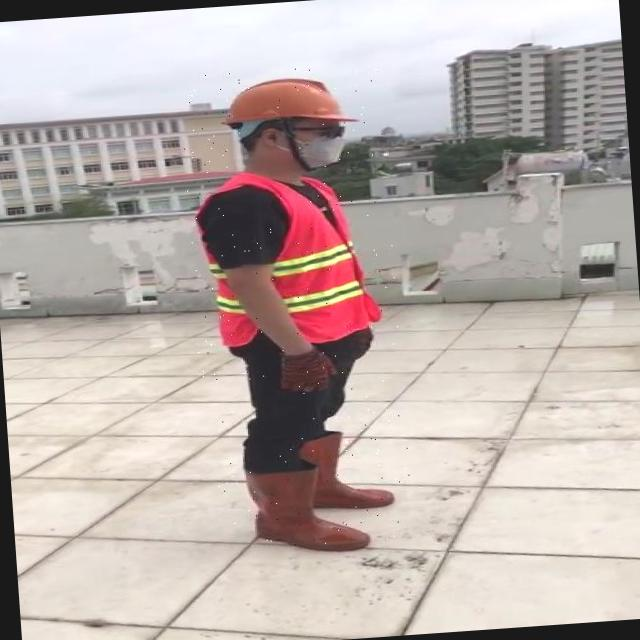boots: (244, 464, 368, 556), (299, 428, 392, 512)
gloves: (278, 344, 338, 396)
helmet: (218, 69, 358, 132)
vest: (199, 168, 375, 350)
